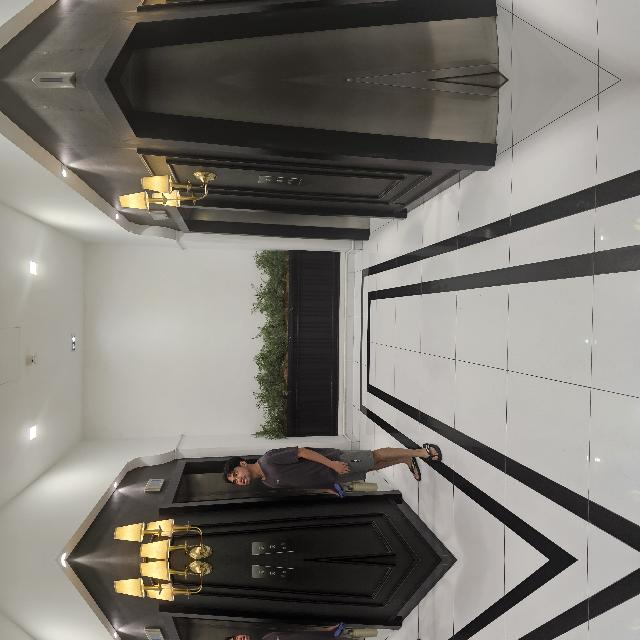obstacle: (122, 331, 310, 422)
person: (64, 302, 124, 516), (64, 604, 124, 640)
